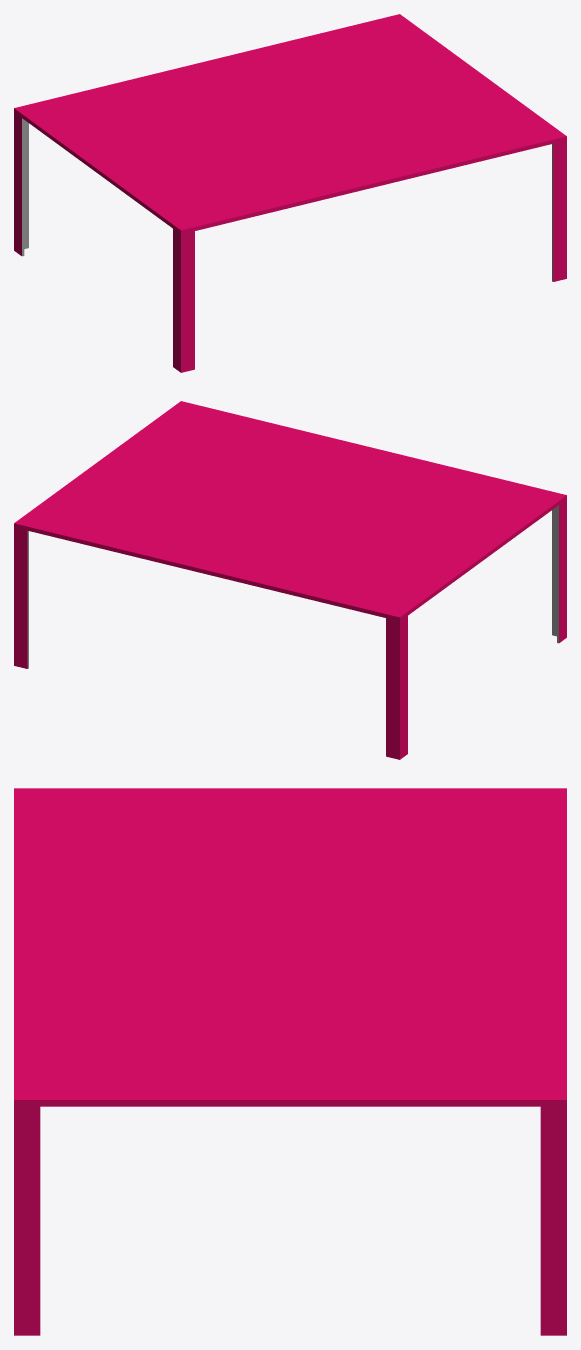
File: PaperTable (1).fbx
The picture shows the model from 3 angles, top to bottom: view 1: azimuth 30°, elevation 25°; view 2: azimuth 150°, elevation 25°; view 3: azimuth 270°, elevation 25°; orthographic projection. The views are drawn at different scales.
Parts seen in each view (by area): view 1: pCube179; view 2: pCube179; view 3: pCube179.
Boxes of the visible parts, x1=… form: pCube179: x1=14, y1=14, x2=566, y2=372; pCube179: x1=14, y1=401, x2=566, y2=759; pCube179: x1=14, y1=788, x2=566, y2=1335.
Bounding box in the file's own units: 28 × 9.88 × 21.
